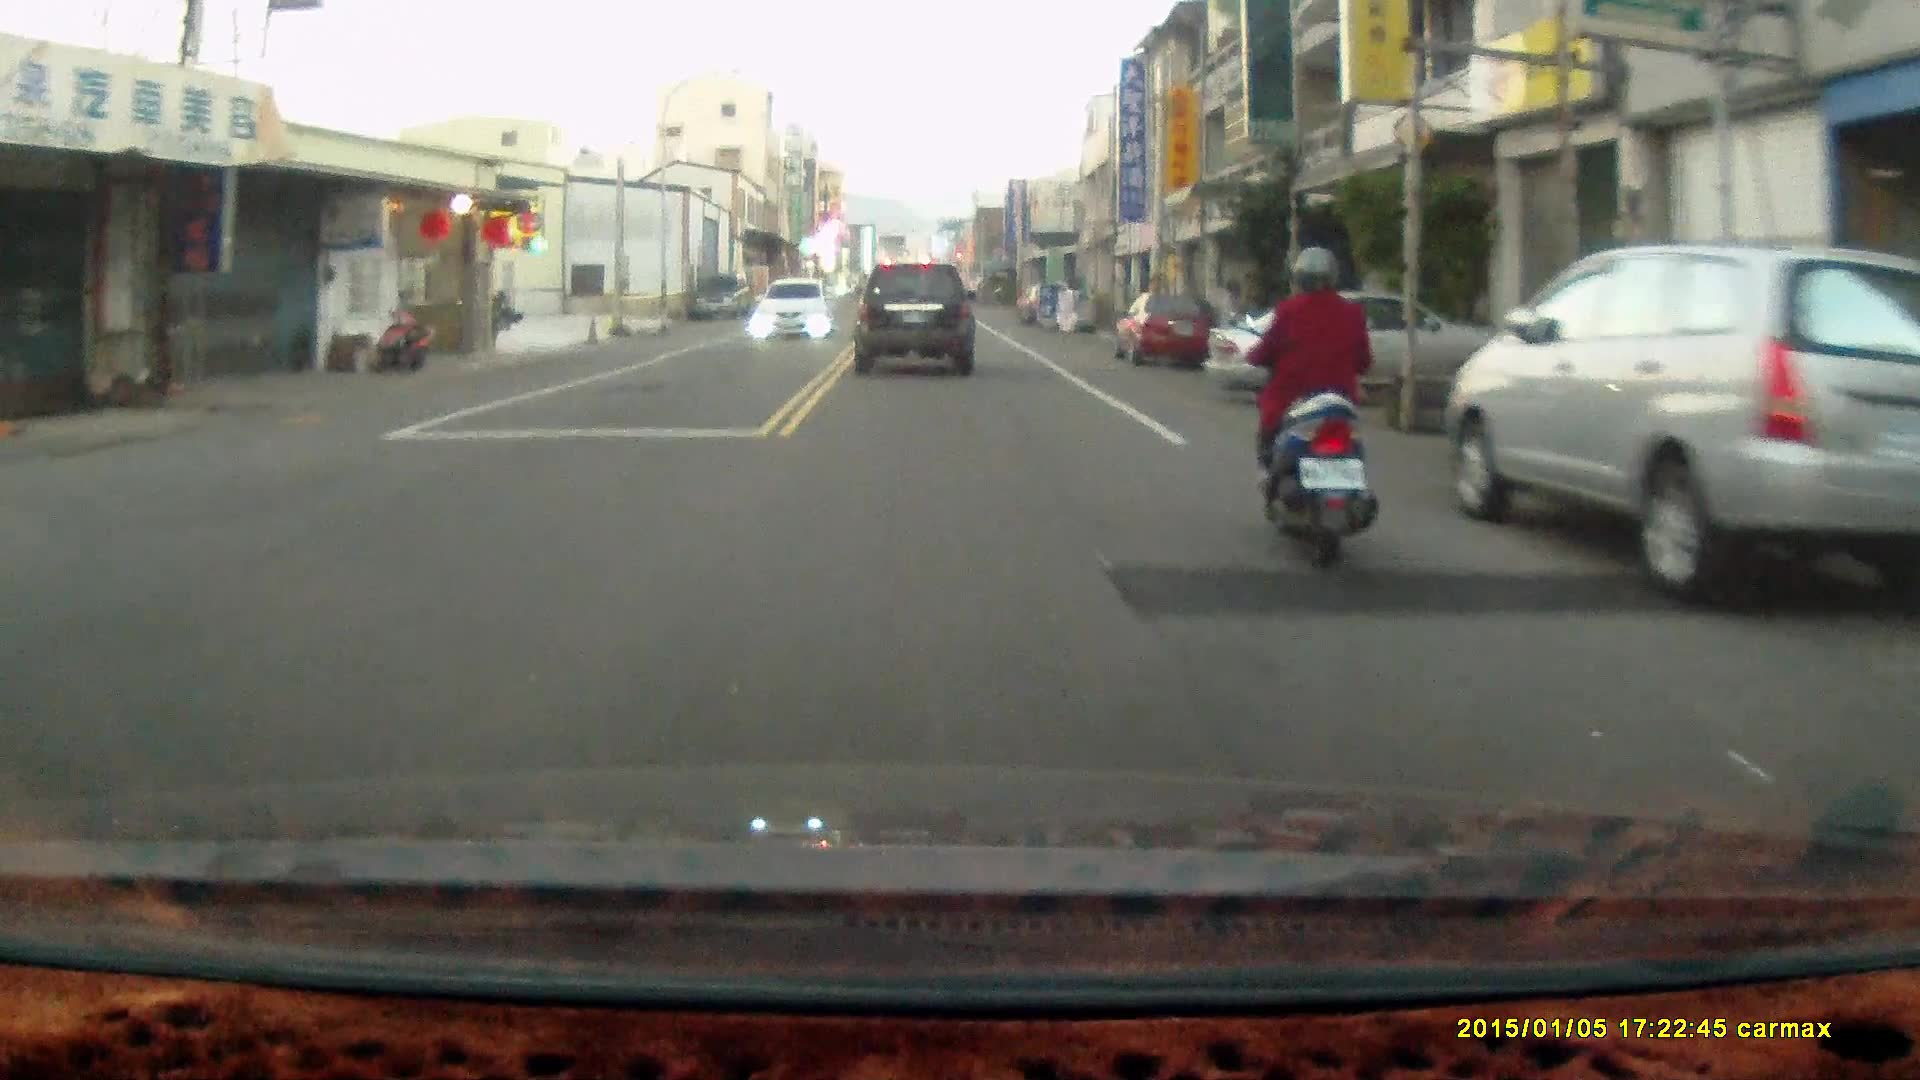rider: (1228, 246, 1383, 566)
vehicle: (1445, 245, 1920, 620), (1208, 295, 1483, 415), (853, 259, 981, 376), (1113, 291, 1224, 366), (752, 277, 836, 341), (693, 276, 753, 323)
